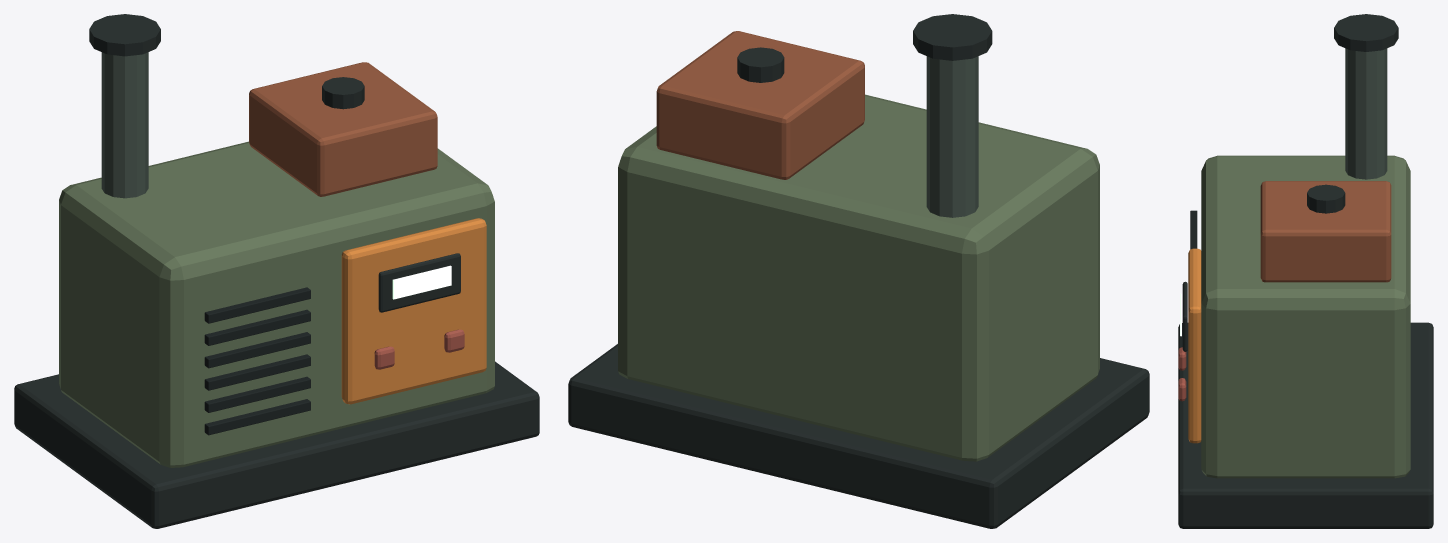
The model's file is generator.glb.
3 views of the same model, side by side, from view 1: azimuth 30°, elevation 25°; view 2: azimuth 150°, elevation 25°; view 3: azimuth 270°, elevation 25° (orthographic). The views are drawn at different scales.
Parts seen in each view (by area): view 1: engine, skid, orange_panel, fuel_tank, exhaust, exhaust_cap, meter, vent.004, vent.001, vent, vent.003, vent.002 (+3 smaller); view 2: engine, skid, fuel_tank, exhaust, exhaust_cap, fuel_cap; view 3: engine, skid, fuel_tank, exhaust, orange_panel, exhaust_cap, fuel_cap, meter, vent.005.
Part boxes in pixels (x1,y1,x2,y2): engine: [59, 141, 494, 467]; skid: [14, 361, 539, 528]; orange_panel: [341, 218, 486, 404]; fuel_tank: [249, 62, 437, 196]; exhaust: [101, 52, 148, 198]; exhaust_cap: [89, 14, 160, 56]; meter: [378, 253, 460, 312]; vent.004: [204, 309, 310, 345]; vent.001: [204, 376, 310, 412]; vent: [204, 399, 310, 435]; vent.003: [204, 332, 310, 368]; vent.002: [204, 354, 310, 390]; engine: [618, 94, 1099, 461]; skid: [568, 344, 1149, 528]; fuel_tank: [656, 31, 864, 179]; exhaust: [926, 56, 978, 217]; exhaust_cap: [913, 14, 992, 60]; fuel_cap: [737, 47, 784, 82]; engine: [1201, 155, 1410, 478]; skid: [1178, 322, 1433, 528]; fuel_tank: [1260, 181, 1391, 282]; exhaust: [1345, 48, 1387, 179]; orange_panel: [1188, 248, 1201, 443]; exhaust_cap: [1334, 14, 1398, 51]; fuel_cap: [1307, 184, 1345, 213]; meter: [1182, 281, 1187, 351]; vent.005: [1190, 210, 1197, 249].
Bounding box in the file's own units: 2 × 2.01 × 1.27.
